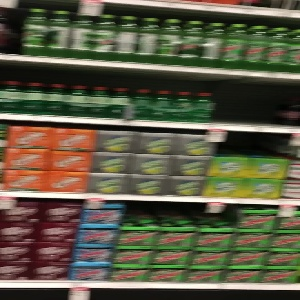void: (218, 73, 290, 127)
